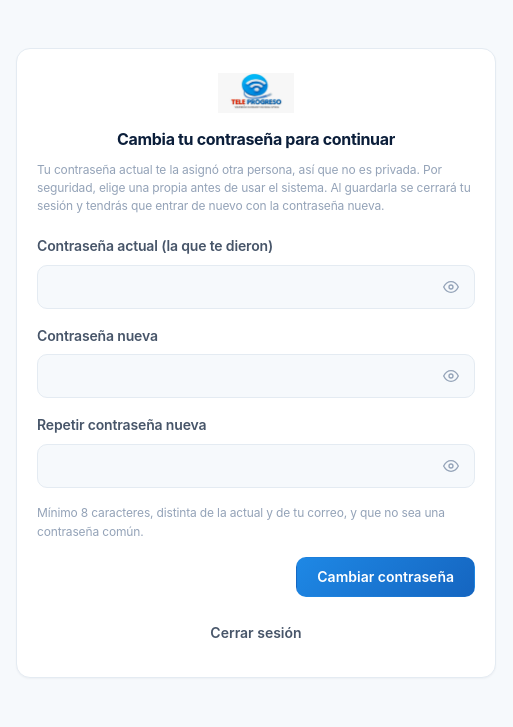
Test case: CambioObligatorioPage › muestra el motivo concreto cuando el backend rechaza por la política (422)
The image size is (513, 727).
Type "la-que-me-dieron" into the password field labelled "Contraseña actual (la que te dieron)".
click(256, 287); type("la-que-me-dieron")  # box 37,265 -> 475,309
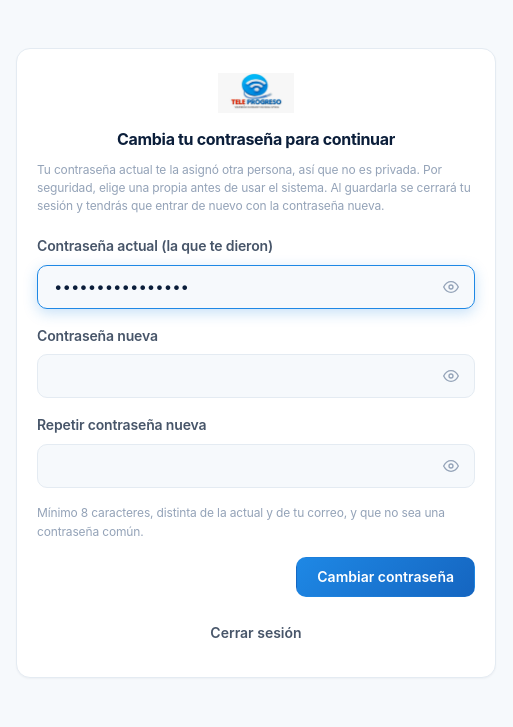
Type "Welcome1234" into the password field labelled "Contraseña nueva".
click(256, 376); type("Welcome1234")  # box 37,354 -> 475,398
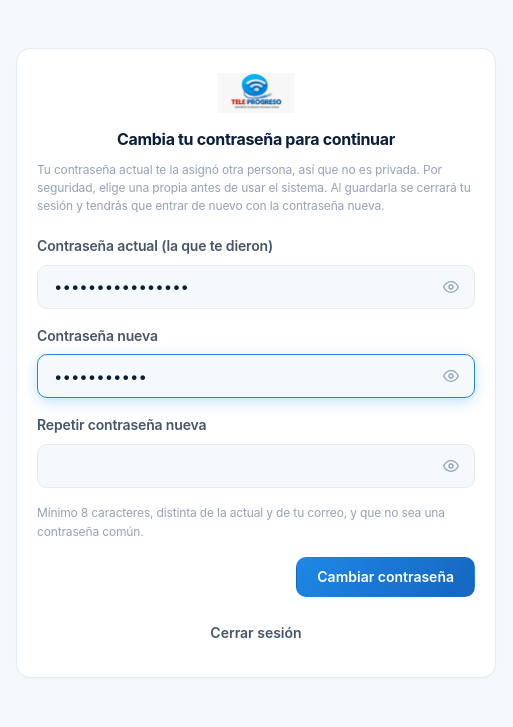
Type "Welcome1234" into the password field labelled "Repetir contraseña nueva".
click(256, 466); type("Welcome1234")  # box 37,444 -> 475,488
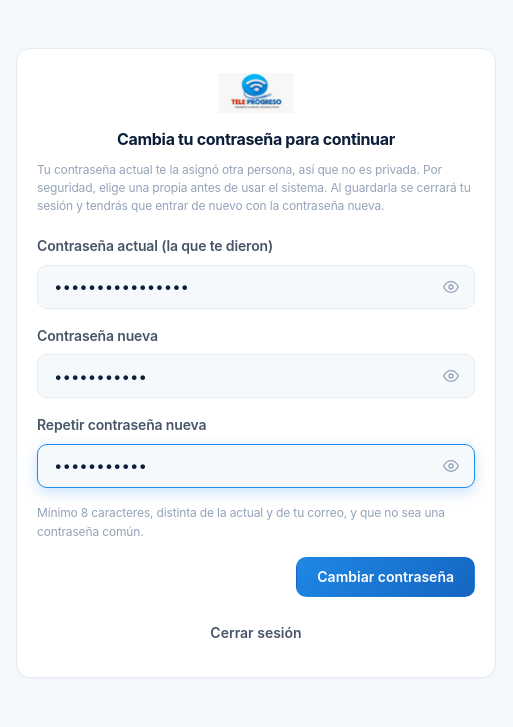
Click the button "Cambiar contraseña".
click(386, 577)  # box 296,557 -> 475,597
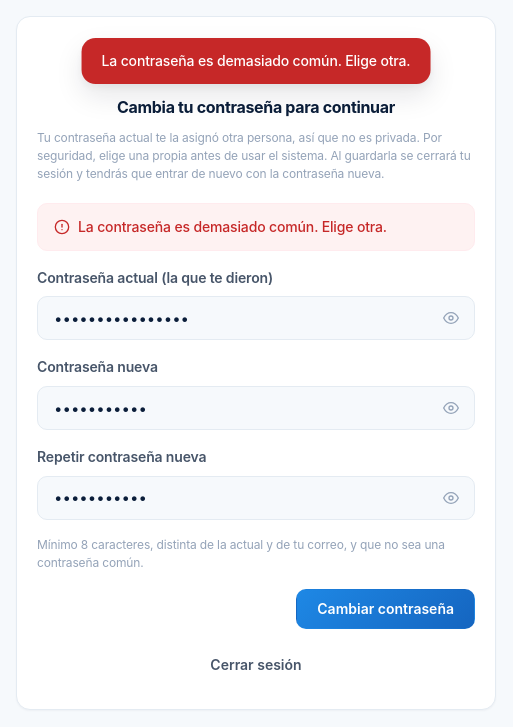
Now the text "La contraseña es demasiado común. Elige otra." below "Cambia tu contraseña para continuar" is shown, box 78,218 -> 387,235
